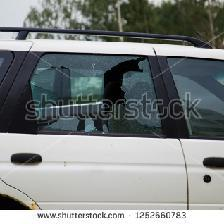broken_part: (70, 50, 165, 138)
